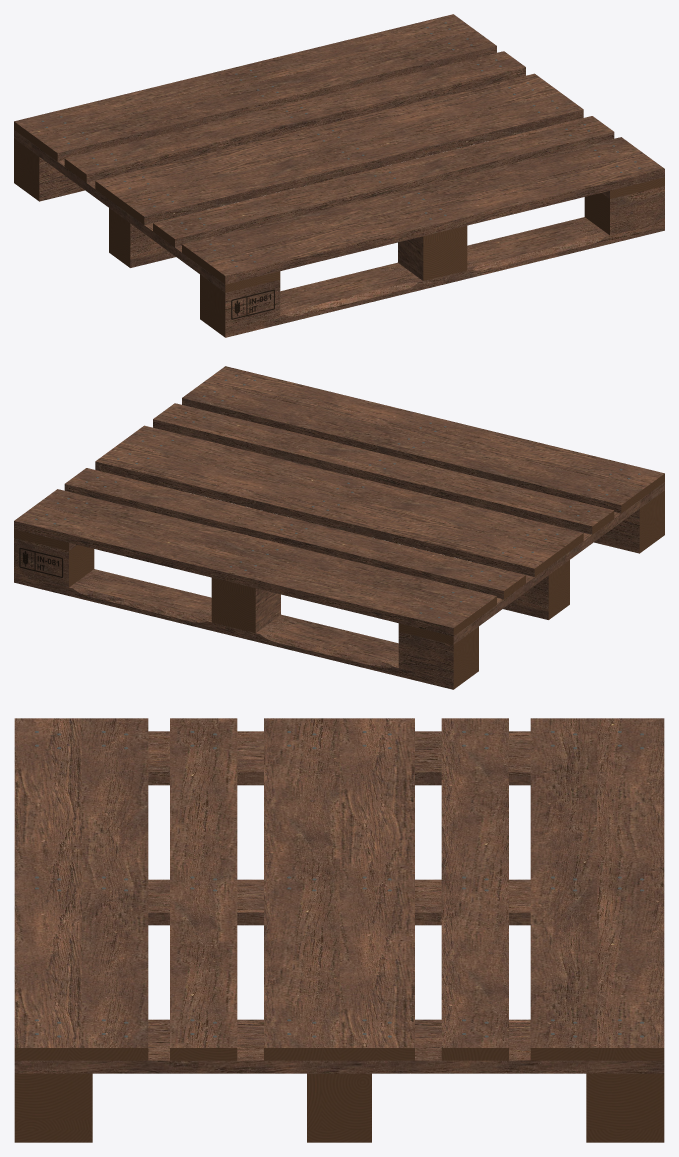
Rendered from hw02-hardwood-pallet-1200x1000.glb.
3 renders of one model, top to bottom at view 1: azimuth 30°, elevation 25°; view 2: azimuth 150°, elevation 25°; view 3: azimuth 270°, elevation 25°, orthographic. The views are drawn at different scales.
Parts seen in each view (by area): view 1: hw02-hardwood-pallet-1200x1000; view 2: hw02-hardwood-pallet-1200x1000; view 3: hw02-hardwood-pallet-1200x1000.
Boxes of the visible parts, left/top/right/bottom form: hw02-hardwood-pallet-1200x1000: left=14, top=14, right=664, bottom=337; hw02-hardwood-pallet-1200x1000: left=14, top=366, right=664, bottom=689; hw02-hardwood-pallet-1200x1000: left=14, top=718, right=664, bottom=1142.
Bounding box in the file's own units: 1.2 × 0.162 × 1.
4 materials, 3 textured.
